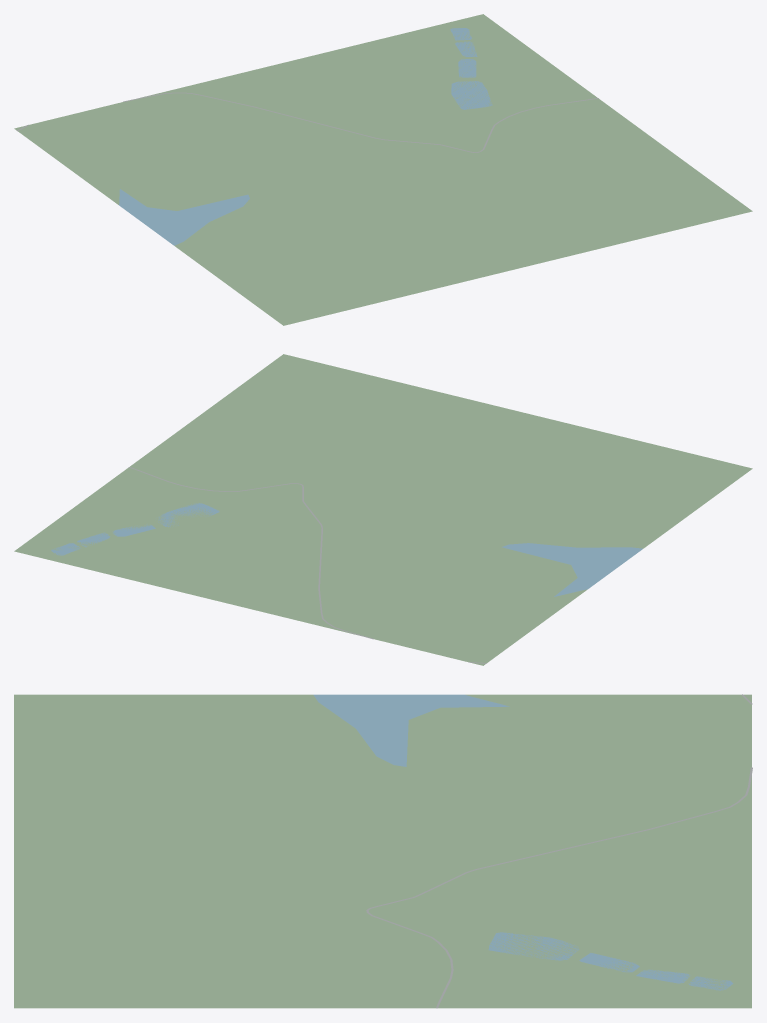
File: -13_9-known-fine.glb
3 renders of one model, top to bottom at view 1: azimuth 30°, elevation 25°; view 2: azimuth 150°, elevation 25°; view 3: azimuth 270°, elevation 25°, orthographic. The views are drawn at different scales.
Size of the model in its own units: 1003 by 0.1 by 996.
